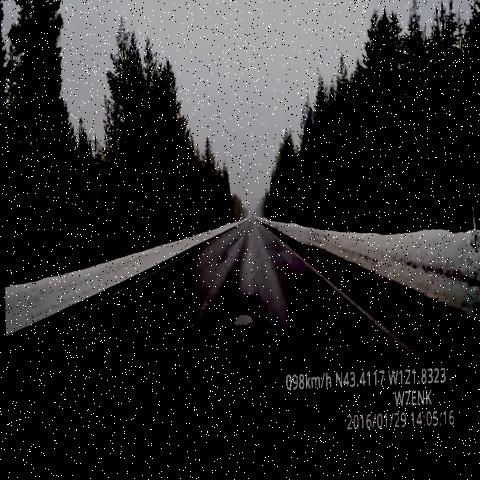pothole: (222, 300, 263, 342)
